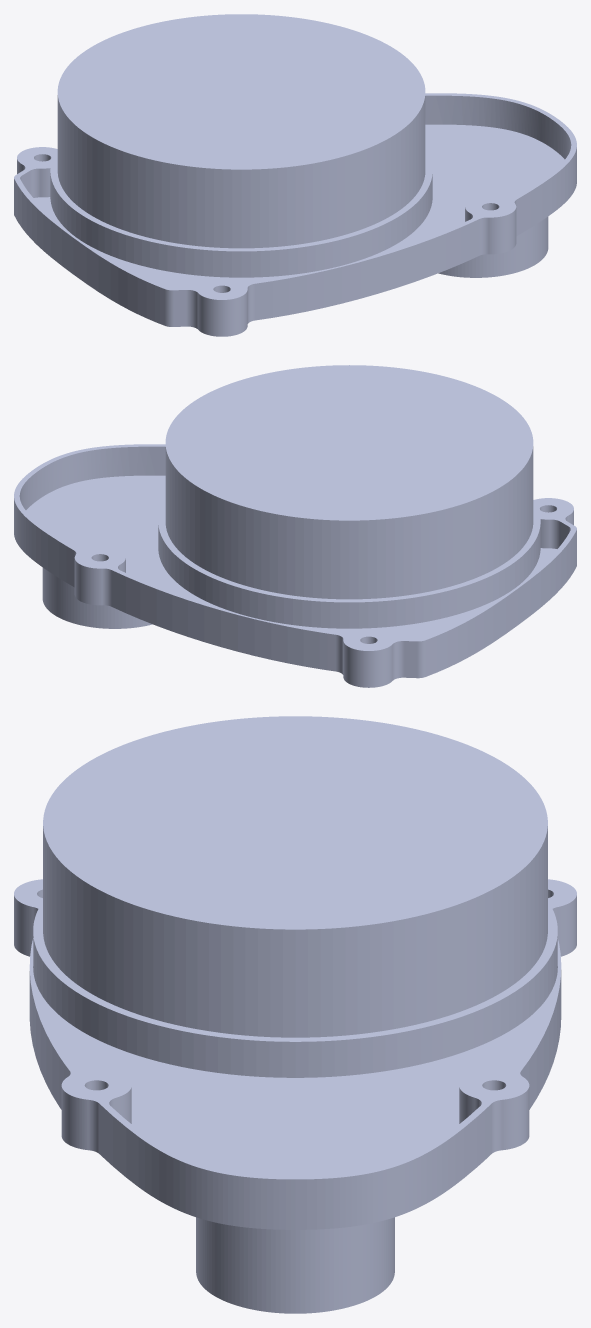
File: lidar.dae
3 renders of one model, top to bottom at view 1: azimuth 30°, elevation 25°; view 2: azimuth 150°, elevation 25°; view 3: azimuth 270°, elevation 25°, orthographic. The views are drawn at different scales.
Parts seen in each view (by area): view 1: node_c2053561_ea6f_4457_9e33_4b66572ea2f1_mesh0; view 2: node_c2053561_ea6f_4457_9e33_4b66572ea2f1_mesh0; view 3: node_c2053561_ea6f_4457_9e33_4b66572ea2f1_mesh0.
Boxes of the visible parts, <box> form: node_c2053561_ea6f_4457_9e33_4b66572ea2f1_mesh0: <box>14,14,576,336</box>; node_c2053561_ea6f_4457_9e33_4b66572ea2f1_mesh0: <box>14,365,576,687</box>; node_c2053561_ea6f_4457_9e33_4b66572ea2f1_mesh0: <box>14,716,576,1313</box>.
Bounding box in the file's own units: 96.72 × 70.81 × 40.5.
